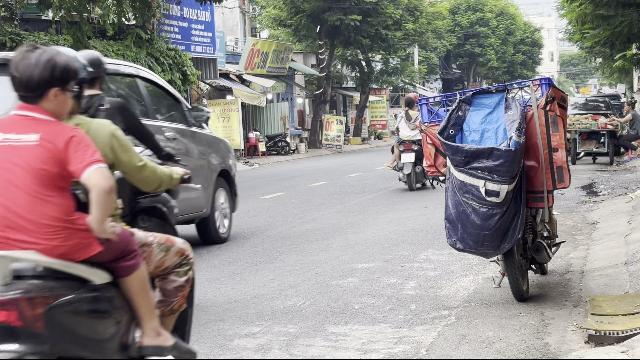helmet: (73, 48, 109, 108)
motorcyclist: (0, 46, 210, 356)
nohelmet: (4, 47, 82, 125)
